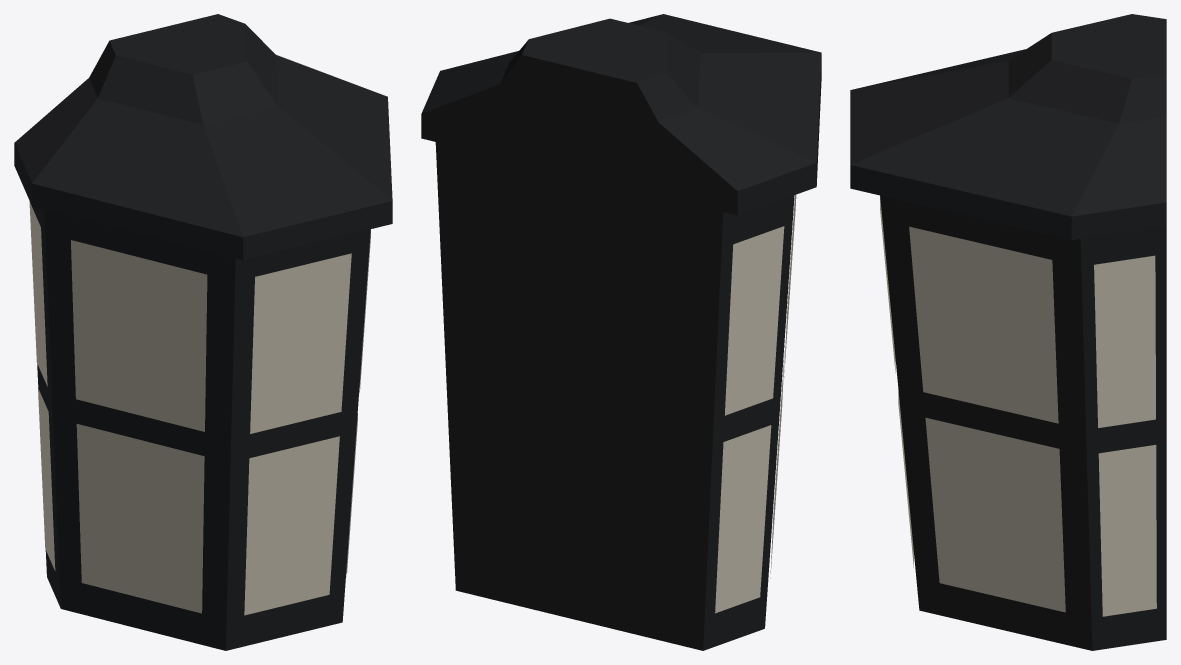
Rendered from balcony-lantern-off.glb.
The picture shows the model from 3 angles, left to right: view 1: azimuth 30°, elevation 25°; view 2: azimuth 150°, elevation 25°; view 3: azimuth 270°, elevation 25°; orthographic projection. The views are drawn at different scales.
Parts seen in each view (by area): view 1: Lantern body, Frosted glass; view 2: Lantern body, Frosted glass; view 3: Lantern body, Frosted glass.
Boxes of the visible parts, x1,y1,x2,y2 form: Lantern body: (14,14,392,650); Frosted glass: (29,202,370,615); Lantern body: (421,14,821,650); Frosted glass: (453,195,796,613); Lantern body: (850,14,1166,650); Frosted glass: (880,196,1156,616).
Size of the model in its own units: 0.2 by 0.28 by 0.15.
